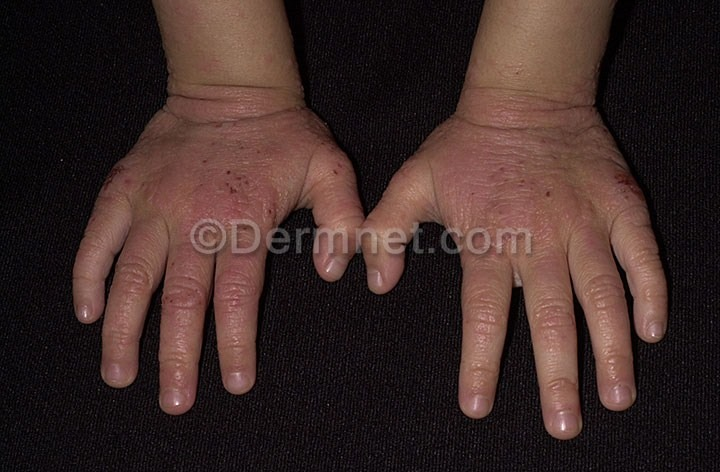Eczema: (385, 72, 676, 436), (62, 75, 372, 412)
